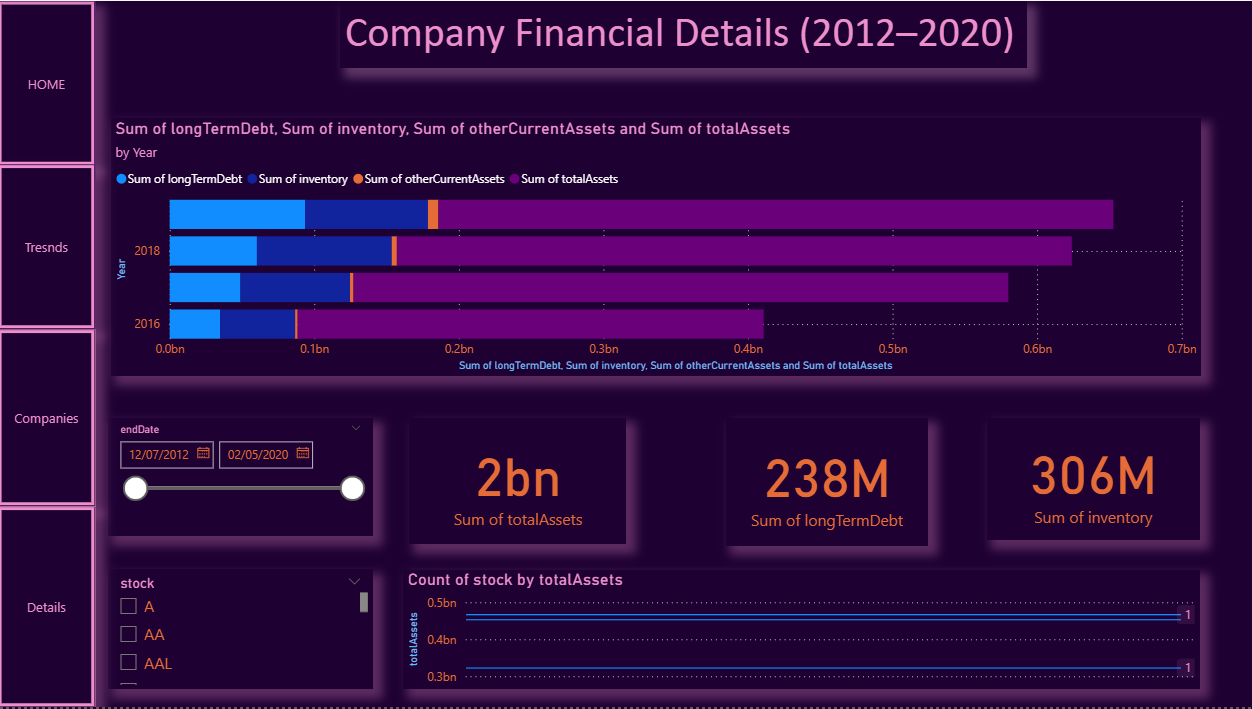

The dashboard page shown, as its layout file describes it:
{"tool":"powerbi","page":{"name":"Details","canvas":[1280,720],"ordinal":3},"visuals":[{"type":"barChart","fields":{"Category":["4400.stock","4400.endDate.Variation.Date Hierarchy.Year","4400.endDate.Variation.Date Hierarchy.Quarter"],"Y":["Sum(4400.longTermDebt)","Sum(4400.inventory)","Sum(4400.otherCurrentAssets)","Sum(4400.totalAssets)"]},"box":[114.7,119.2,1111.3,262.9],"z":0},{"type":"slicer","fields":{"Values":["4400.endDate"]},"box":[111.6,425,270.6,120.8],"z":1000},{"type":"slicer","fields":{"Values":["4400.stock"]},"box":[111.6,579.4,270.6,122.3],"z":2000},{"type":"card","fields":{"Values":["Sum(4400.totalAssets)"]},"box":[418.9,425,221.7,128.4],"z":3000},{"type":"card","fields":{"Values":["Sum(4400.inventory)"]},"box":[1007.4,425,217.1,123.8],"z":4000},{"type":"card","fields":{"Values":["Sum(4400.longTermDebt)"]},"box":[741.4,425,206.4,129.9],"z":5000},{"type":"barChart","fields":{"Y":["CountNonNull(4400.stock)"],"Category":["4400.totalAssets"]},"box":[412.7,579.4,811.7,122.3],"z":6000},{"type":"textbox","box":[348.5,0,700.1,68.8],"z":7000},{"type":"actionButton","box":[0,0,99.4,168.2],"z":8000},{"type":"actionButton","box":[0,166.6,99.4,168.2],"z":9000},{"type":"actionButton","box":[0,334.8,99.4,180.4],"z":10000},{"type":"actionButton","box":[0,515.2,99.4,204.8],"z":11000}]}

Visuals, with their boxes in screenshot pixels (x1, y1, x2, y2), scaled from the page's 1280x720 canvas onto the 1252x709 screenshot:
barChart - 4400.stock x 4400.endDate.Variation.Date Hierarchy.Year: pyautogui.locateOnScreen(112, 117, 1199, 376)
slicer - 4400.endDate: pyautogui.locateOnScreen(109, 419, 374, 537)
slicer - 4400.stock: pyautogui.locateOnScreen(109, 571, 374, 691)
card - Sum(4400.totalAssets): pyautogui.locateOnScreen(410, 419, 627, 545)
card - Sum(4400.inventory): pyautogui.locateOnScreen(985, 419, 1198, 540)
card - Sum(4400.longTermDebt): pyautogui.locateOnScreen(725, 419, 927, 546)
barChart - CountNonNull(4400.stock) x 4400.totalAssets: pyautogui.locateOnScreen(404, 571, 1198, 691)
textbox: pyautogui.locateOnScreen(341, 0, 1026, 68)
actionButton: pyautogui.locateOnScreen(0, 0, 97, 166)
actionButton: pyautogui.locateOnScreen(0, 164, 97, 330)
actionButton: pyautogui.locateOnScreen(0, 330, 97, 507)
actionButton: pyautogui.locateOnScreen(0, 507, 97, 708)
